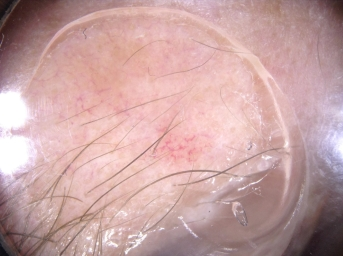melanoma: (57, 85, 134, 136), (147, 130, 218, 171)
